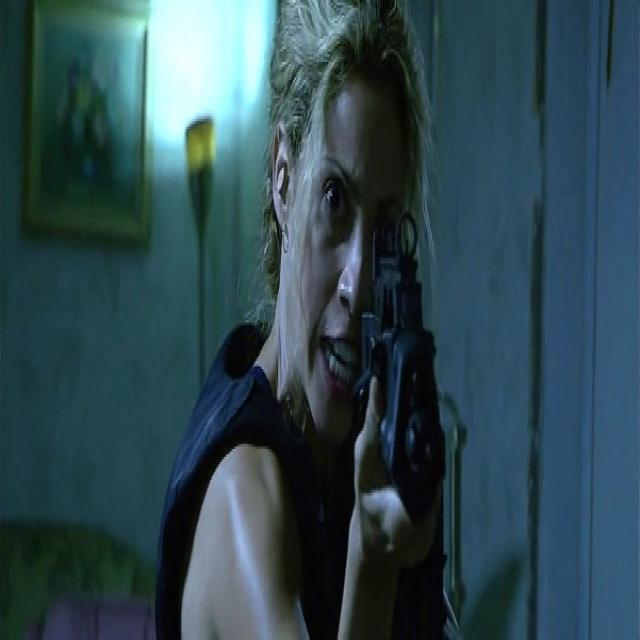rifle: (350, 196, 451, 532)
